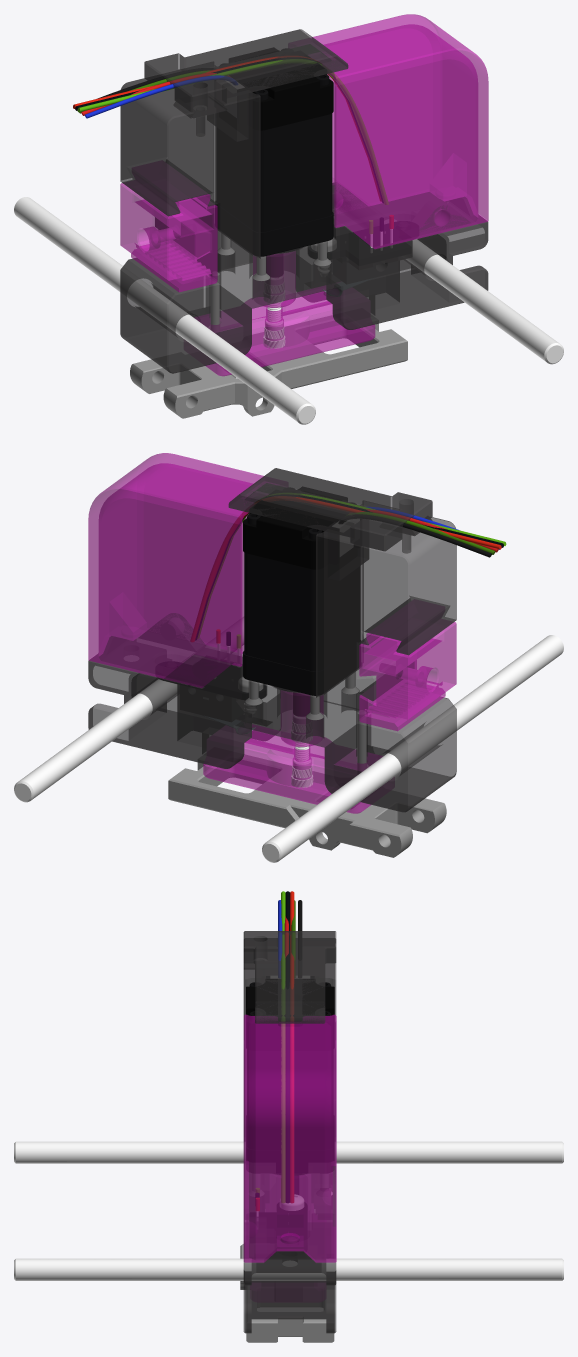
File: V6S-NEMA8.glb
The picture shows the model from 3 angles, top to bottom: view 1: azimuth 30°, elevation 25°; view 2: azimuth 150°, elevation 25°; view 3: azimuth 270°, elevation 25°; orthographic projection. The views are drawn at different scales.
Visible parts, largest first — view 1: SOLID (×19), COMPOUND; view 2: SOLID (×20), COMPOUND; view 3: SOLID (×13), COMPOUND.
Part boxes in pixels (x1=…): SOLID (×19): x1=14, y1=14, x2=563, y2=424; COMPOUND: x1=120, y1=78, x2=488, y2=373; SOLID (×20): x1=14, y1=453, x2=563, y2=862; COMPOUND: x1=88, y1=507, x2=456, y2=812; SOLID (×13): x1=14, y1=891, x2=563, y2=1342; COMPOUND: x1=243, y1=938, x2=336, y2=1333.
Bounding box in the file's own units: 0.0984 × 0.0803 × 0.124.
